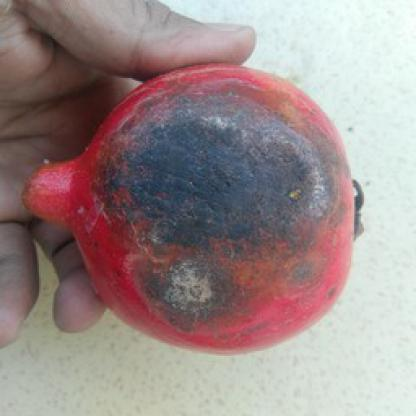pomegranate_rotten: (20, 60, 370, 356)
